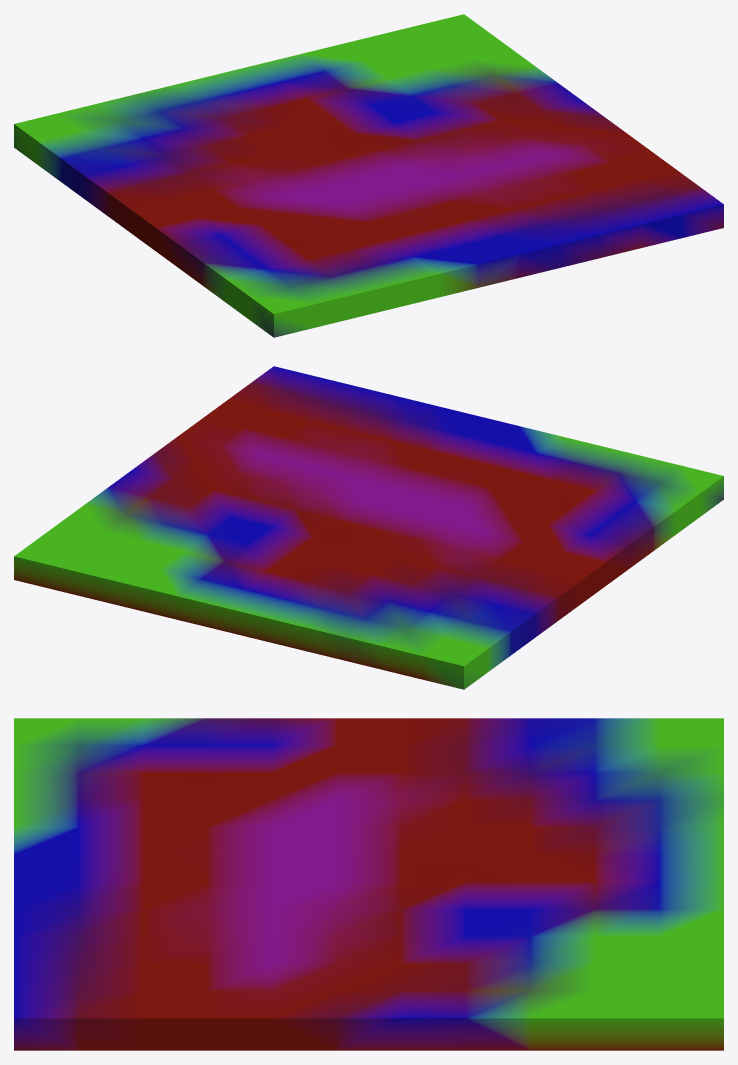
The model's file is VertexPaintSquareTest.fbx.
3 views of the same model, one above another, from view 1: azimuth 30°, elevation 25°; view 2: azimuth 150°, elevation 25°; view 3: azimuth 270°, elevation 25° (orthographic). The views are drawn at different scales.
Visible parts, largest first — view 1: VertexPaintTest; view 2: VertexPaintTest; view 3: VertexPaintTest.
Boxes of the visible parts, left/top/right/bottom form: VertexPaintTest: left=14, top=14, right=723, bottom=337; VertexPaintTest: left=14, top=366, right=723, bottom=689; VertexPaintTest: left=14, top=718, right=723, bottom=1050.
Bounding box in the file's own units: 10 × 0.5 × 10.
